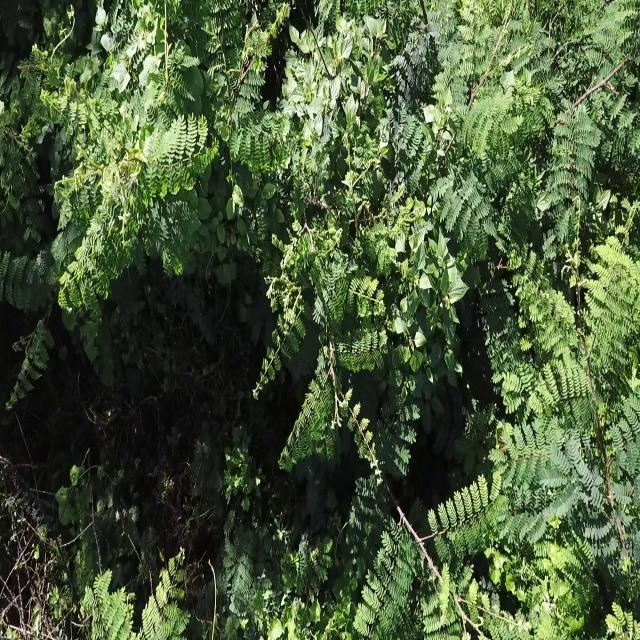Mysore-Thorn-Weed: (11, 7, 298, 302), (502, 240, 640, 570), (255, 214, 390, 480), (386, 0, 518, 245), (367, 496, 513, 640), (546, 0, 638, 224), (74, 535, 191, 640)
